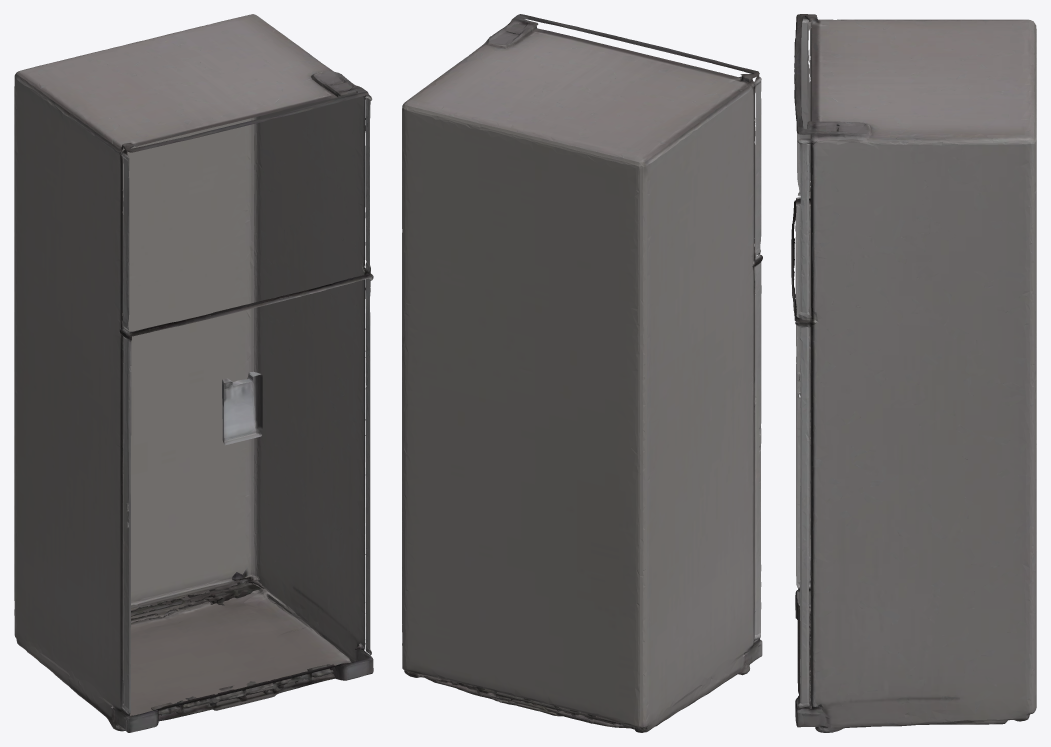
Rendered from body.glb.
3 views of the same model, side by side, from view 1: azimuth 30°, elevation 25°; view 2: azimuth 150°, elevation 25°; view 3: azimuth 270°, elevation 25° (orthographic).
Parts seen in each view (by area): view 1: source_surface_0; view 2: source_surface_0; view 3: source_surface_0.
Part boxes in pixels (x1,y1,x2,y2): source_surface_0: (14,14,373,732); source_surface_0: (402,14,762,732); source_surface_0: (791,14,1036,732).
Size of the model in its own units: 1.75 by 3.99 by 1.48.
Materials: 1 (1 with a texture image).
